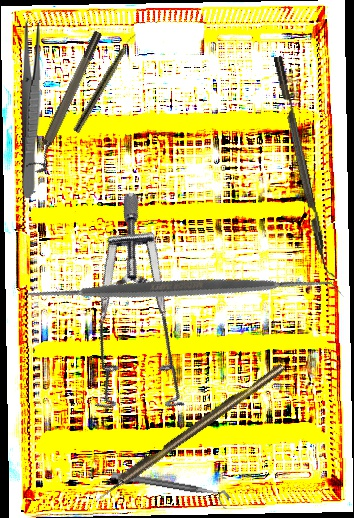Chopper: (273, 53, 341, 281)
Dressing Forceps: (20, 18, 43, 199)
Fixation Ring: (25, 29, 111, 176), (109, 470, 231, 510)
Handpiece: (72, 30, 138, 135)
Hook Surgical: (91, 362, 287, 504)
Spatula Surgical: (15, 124, 345, 454)
Speculum: (26, 188, 264, 445)
